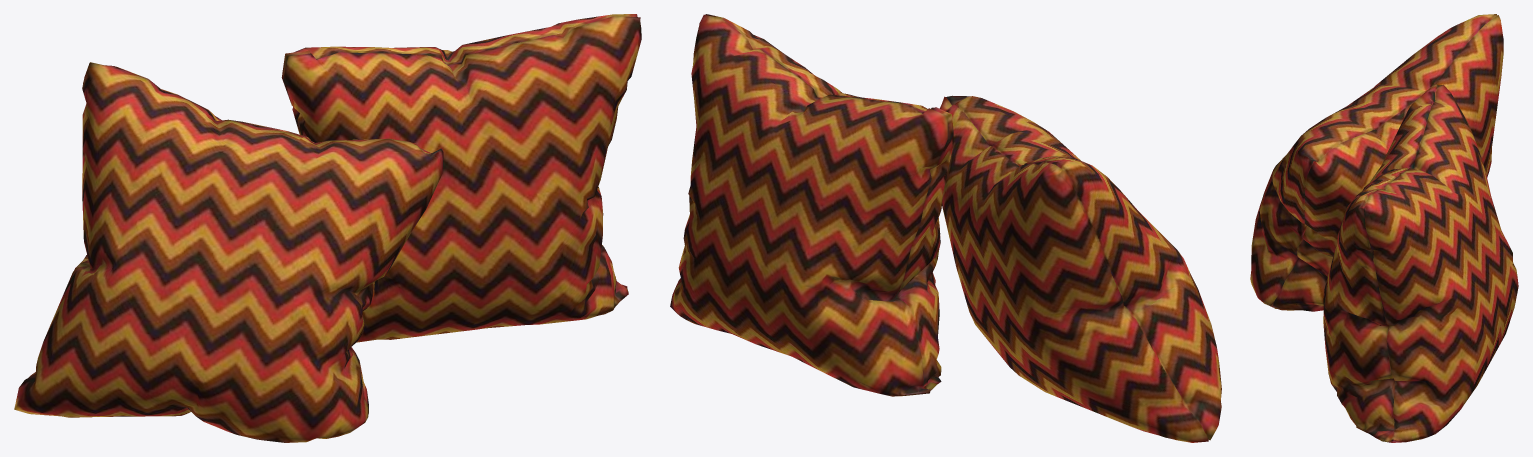
Rendered from throw_pillows_01.glb.
3 views of the same model, side by side, from view 1: azimuth 30°, elevation 25°; view 2: azimuth 150°, elevation 25°; view 3: azimuth 270°, elevation 25° (orthographic). The views are drawn at different scales.
Parts seen in each view (by area): view 1: throw_pillows_01_pillow01, throw_pillows_01_pillow02; view 2: throw_pillows_01_pillow02, throw_pillows_01_pillow01; view 3: throw_pillows_01_pillow02, throw_pillows_01_pillow01.
Part boxes in pixels (box(x1,y1,x2,y2)): throw_pillows_01_pillow01: box(14, 62, 443, 442); throw_pillows_01_pillow02: box(281, 14, 641, 342); throw_pillows_01_pillow02: box(670, 14, 953, 396); throw_pillows_01_pillow01: box(940, 95, 1221, 442); throw_pillows_01_pillow02: box(1323, 84, 1518, 442); throw_pillows_01_pillow01: box(1250, 14, 1503, 311).
Bounding box in the file's own units: 0.9401 × 0.4501 × 0.4519.
1 material, 1 textured.
